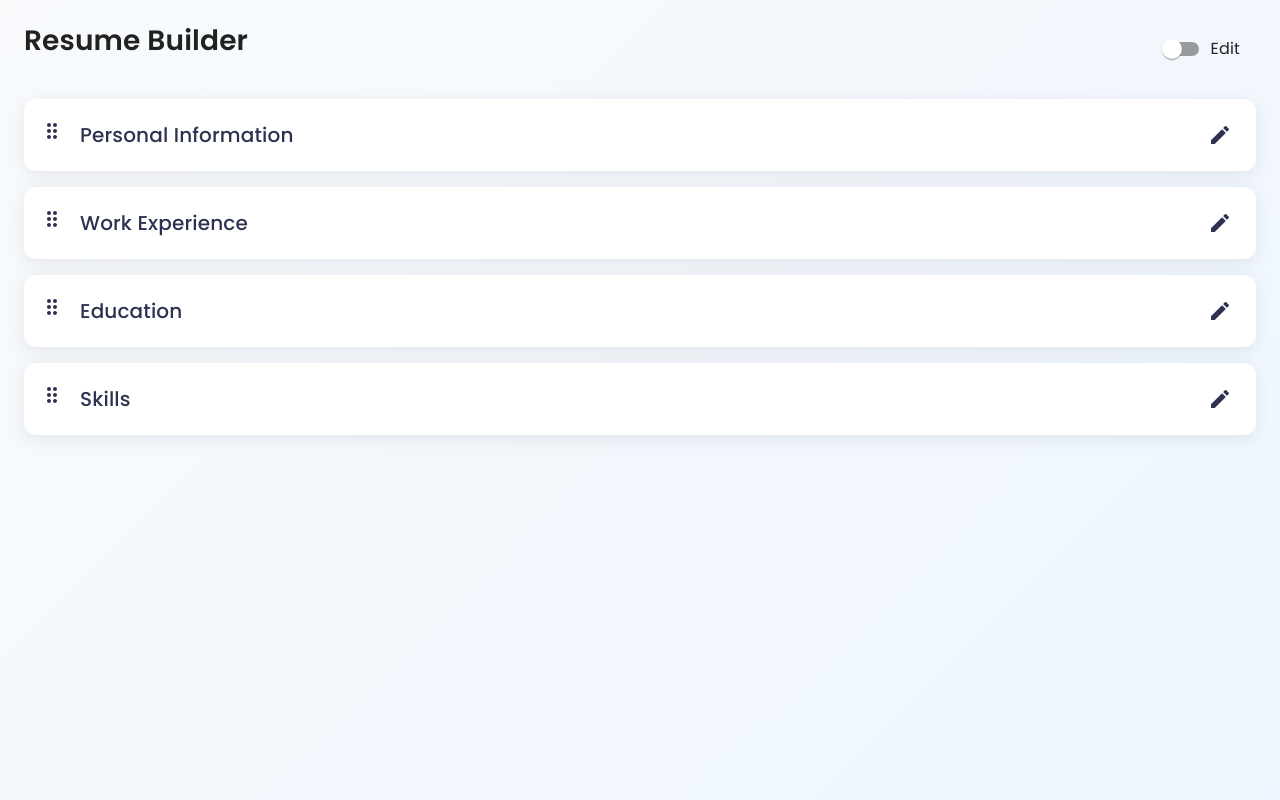
Test: DraggableResumeBuilder › expands section when edit button is clicked
Click the button named "edit section" in the row of "Personal Information". click: (1220, 135)
box: [1200, 115, 1240, 155]
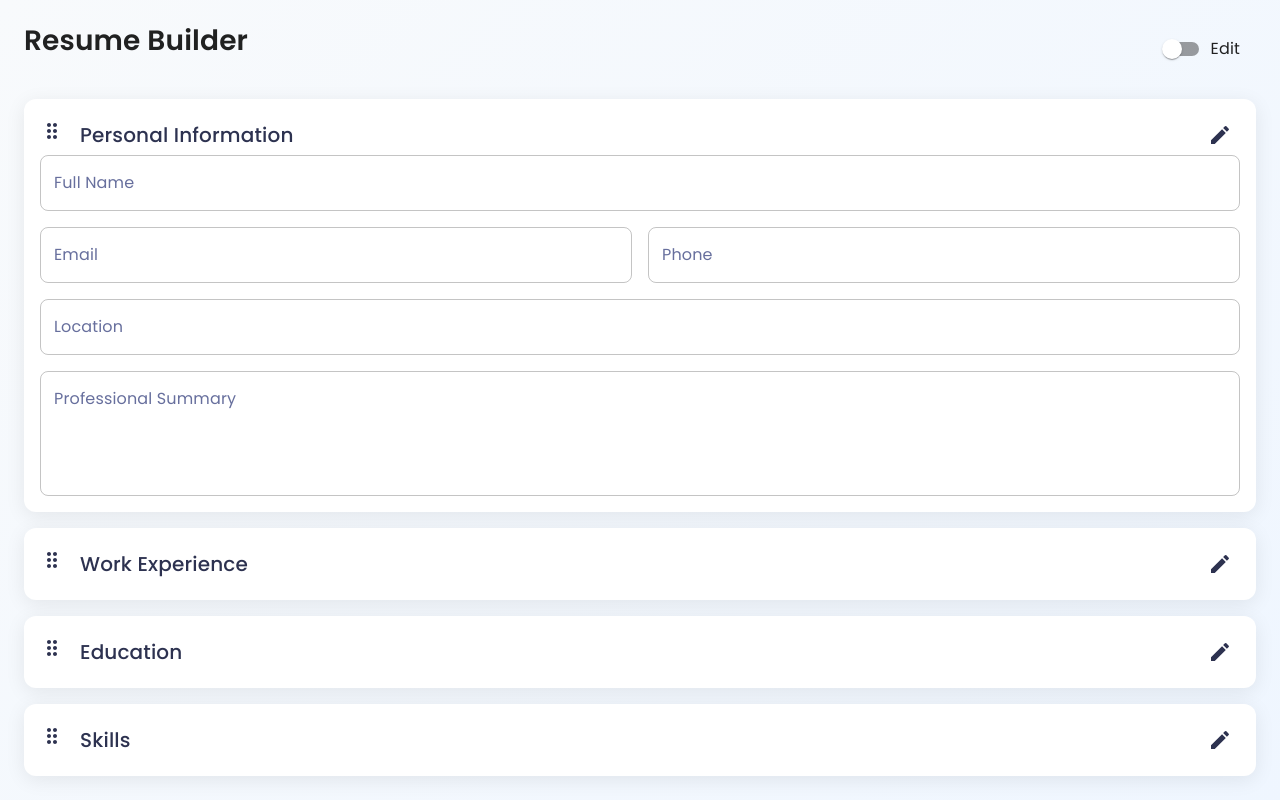
Result: the field labelled "Full Name" is shown at [40, 155, 1240, 211]
